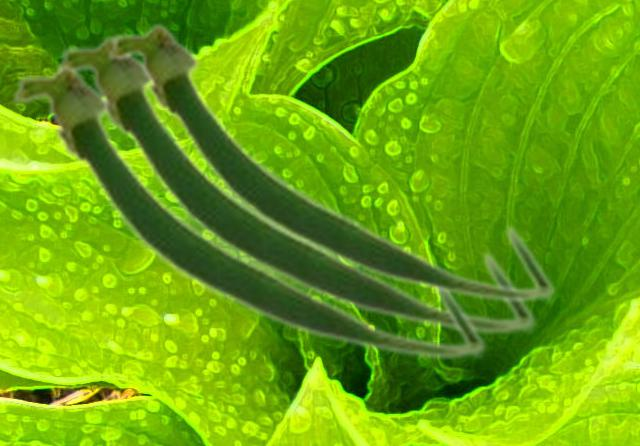french_bean: (53, 31, 537, 336), (9, 60, 487, 361), (104, 19, 556, 304)
